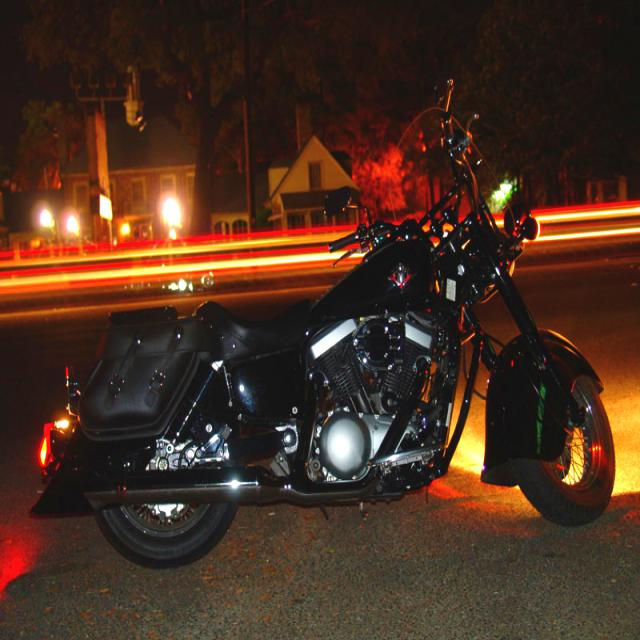Motorbike: (32, 79, 617, 567)
